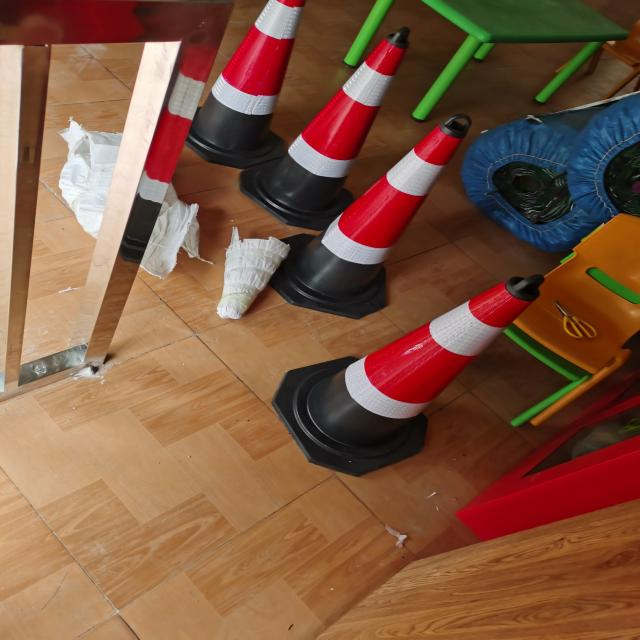reflective_cone: (268, 271, 554, 478), (267, 115, 462, 321), (242, 27, 412, 228), (193, 0, 302, 165)
